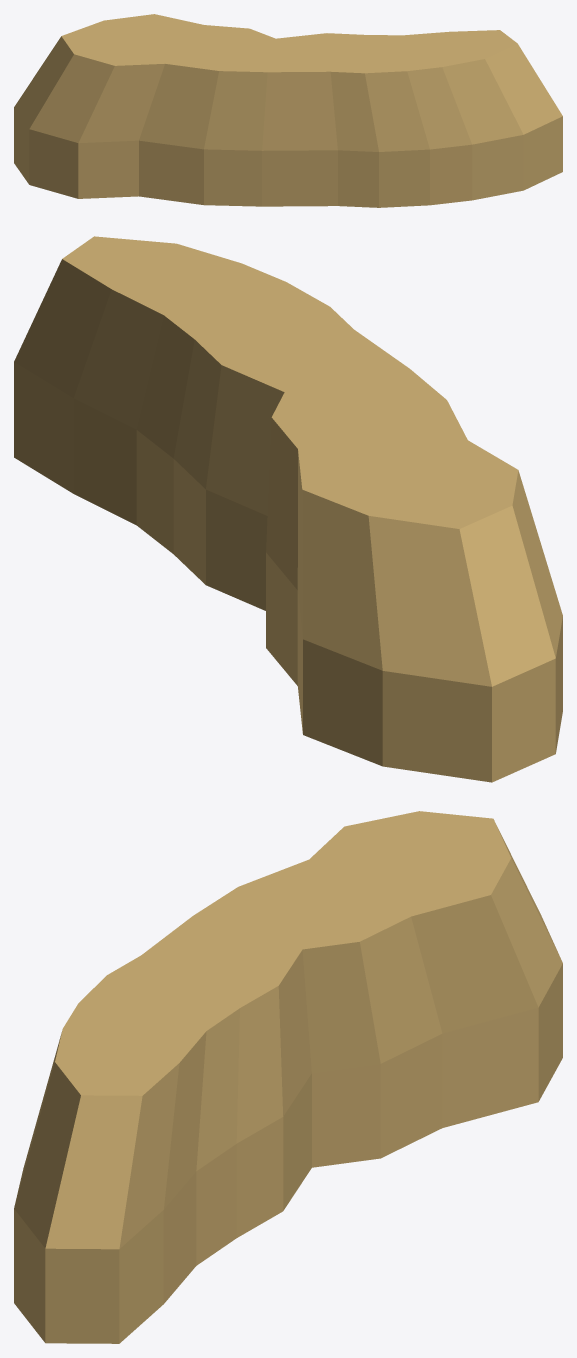
File: RedObstacle5.fbx
3 renders of one model, top to bottom at view 1: azimuth 30°, elevation 25°; view 2: azimuth 150°, elevation 25°; view 3: azimuth 270°, elevation 25°, orthographic. The views are drawn at different scales.
Parts seen in each view (by area): view 1: RedObstacle5; view 2: RedObstacle5; view 3: RedObstacle5.
Part boxes in pixels (<box>): RedObstacle5: <box>14,14,562,207</box>; RedObstacle5: <box>14,236,562,782</box>; RedObstacle5: <box>14,811,562,1343</box>.
Size of the model in its own units: 6.56 by 1.96 by 4.44.
